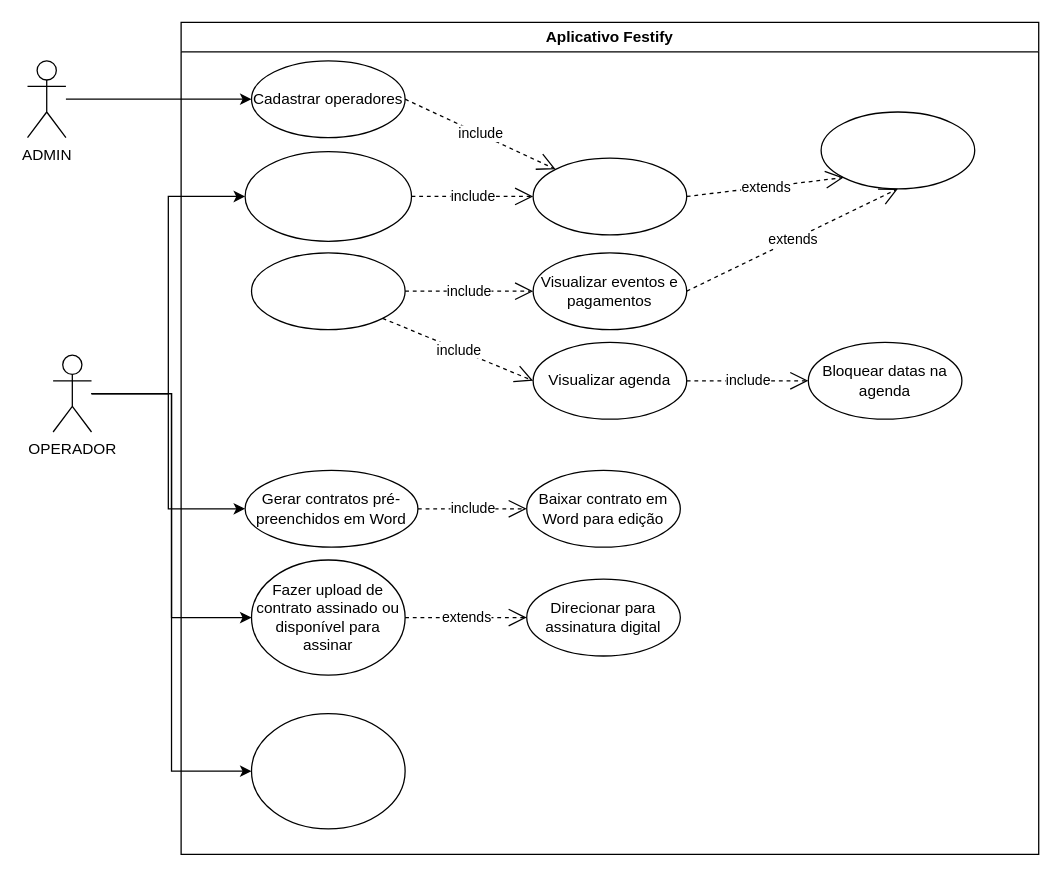
This 1061x877 diagram has some shape labels left out. Here are the shapes that lost their labels. From the top down, the centre of each, then its label:
At (x=897, y=150): "Editar/excluir cadastros".
At (x=328, y=195): "Cadastrar clientes e fornecedores".
At (x=609, y=196): "Visualizar cadastros".
At (x=327, y=291): "Cadastrar eventos e pagamentos".
At (x=327, y=770): "Gerar relatório de eventos, clientes e pagamentos".
